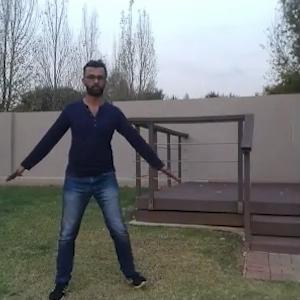land: (2, 58, 169, 299)
